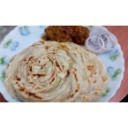parota: (9, 42, 84, 103)
